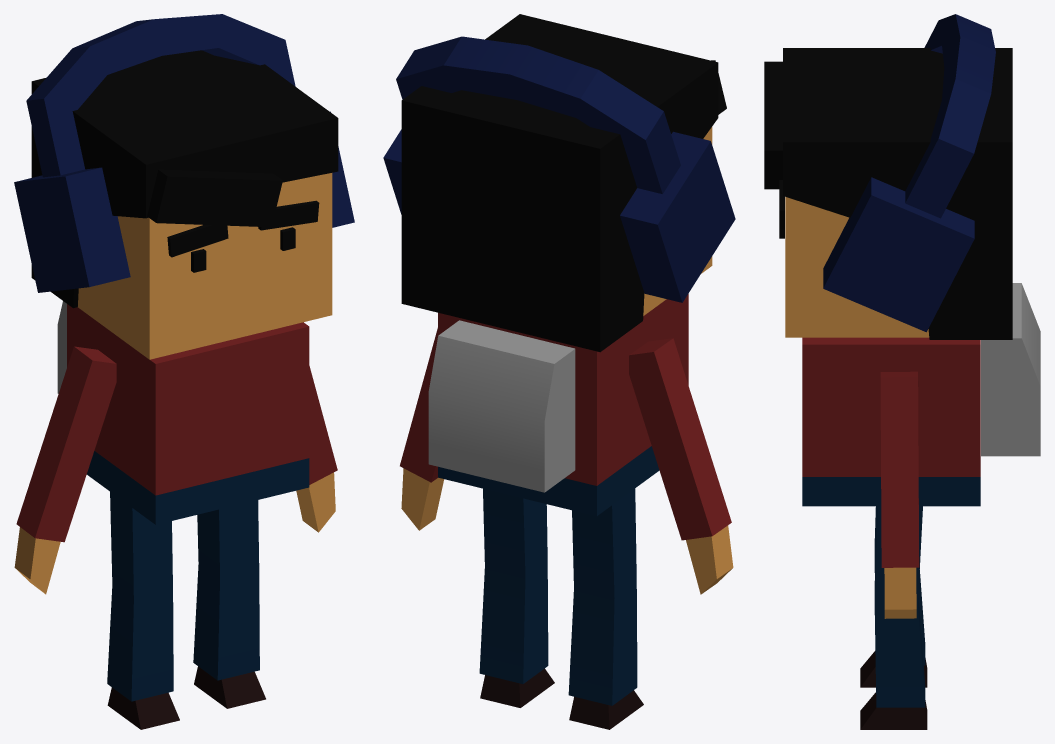
The model's file is Character.fbx.
3 renders of one model, left to right at view 1: azimuth 30°, elevation 25°; view 2: azimuth 150°, elevation 25°; view 3: azimuth 270°, elevation 25°, orthographic. The views are drawn at different scales.
Parts seen in each view (by area): view 1: Character; view 2: Character; view 3: Character.
Boxes of the visible parts, left/top/right/bottom form: Character: left=14, top=14, right=354, bottom=729; Character: left=383, top=14, right=735, bottom=729; Character: left=764, top=14, right=1040, bottom=729.
Bounding box in the file's own units: 30.74 × 63.29 × 23.93.
